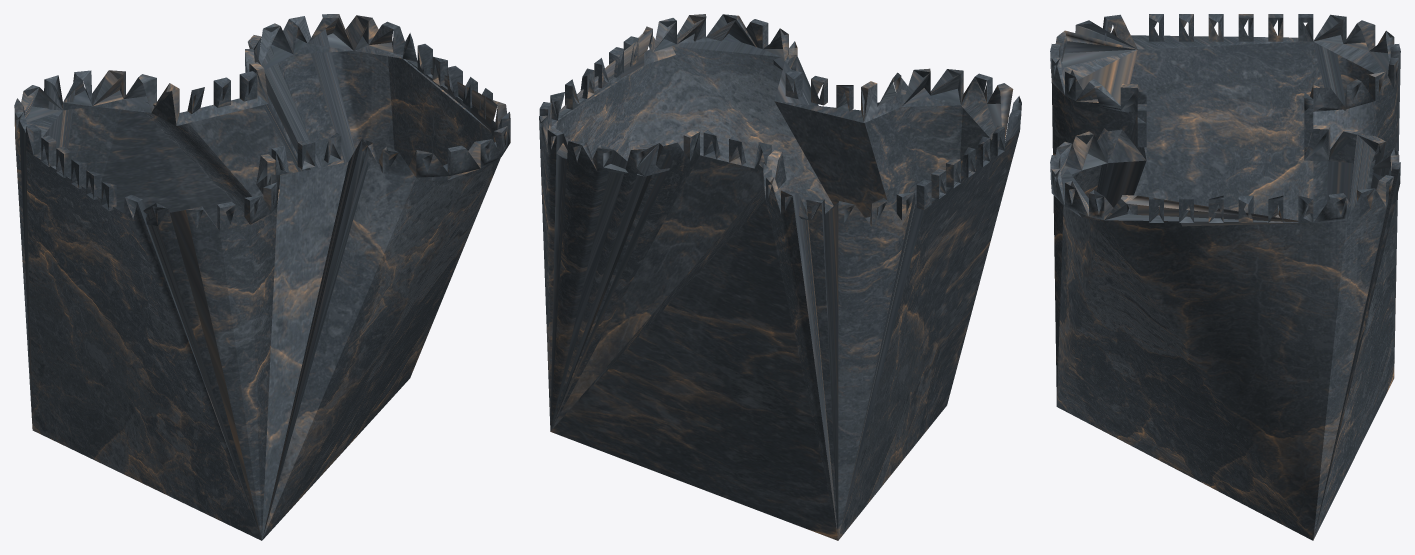
File: Castle_LOD2.fbx
3 views of the same model, side by side, from view 1: azimuth 30°, elevation 25°; view 2: azimuth 150°, elevation 25°; view 3: azimuth 270°, elevation 25° (orthographic). The views are drawn at different scales.
Visible parts, largest first — view 1: Castle; view 2: Castle; view 3: Castle.
Part boxes in pixels (box(x1,y1,x2,y2)): Castle: box(14, 14, 510, 540); Castle: box(539, 14, 1021, 540); Castle: box(1050, 14, 1400, 540).
Size of the model in its own units: 50000 by 43000 by 40000.
Materials: 1 (1 with a texture image).
